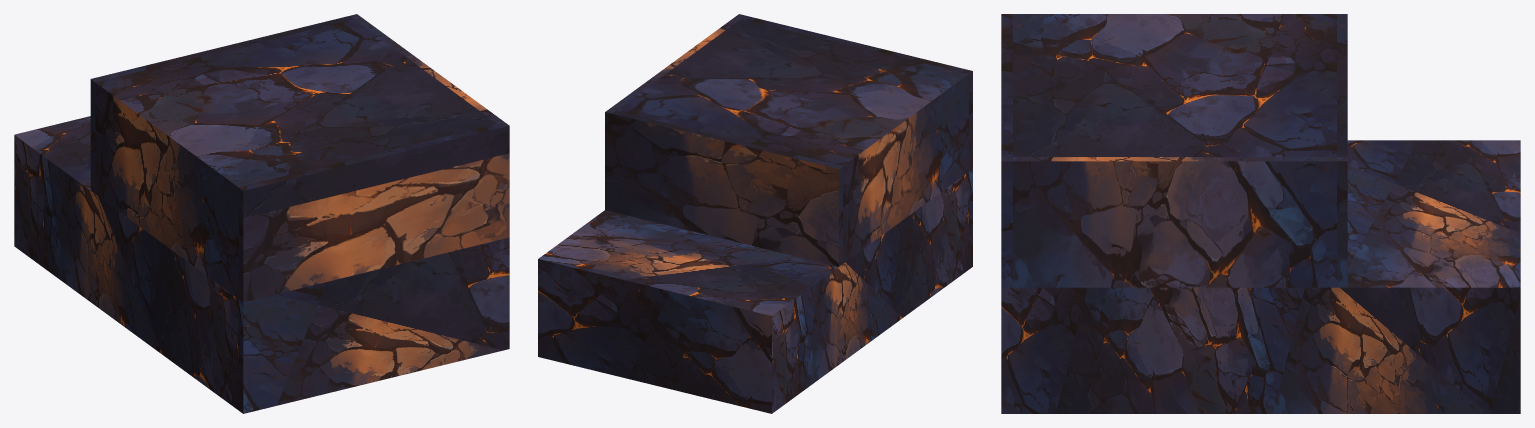
Rendered from 移动台 (1).fbx.
The picture shows the model from 3 angles, left to right: view 1: azimuth 30°, elevation 25°; view 2: azimuth 150°, elevation 25°; view 3: azimuth 270°, elevation 25°; orthographic projection. The views are drawn at different scales.
Parts seen in each view (by area): view 1: 立方体.022; view 2: 立方体.022; view 3: 立方体.022.
Part boxes in pixels (left/top/right/bottom): 立方体.022: left=14, top=14, right=509, bottom=413; 立方体.022: left=538, top=14, right=972, bottom=413; 立方体.022: left=1001, top=14, right=1520, bottom=413.
Bounding box in the file's own units: 5000 × 4001 × 7447.
1 material, 1 textured.
